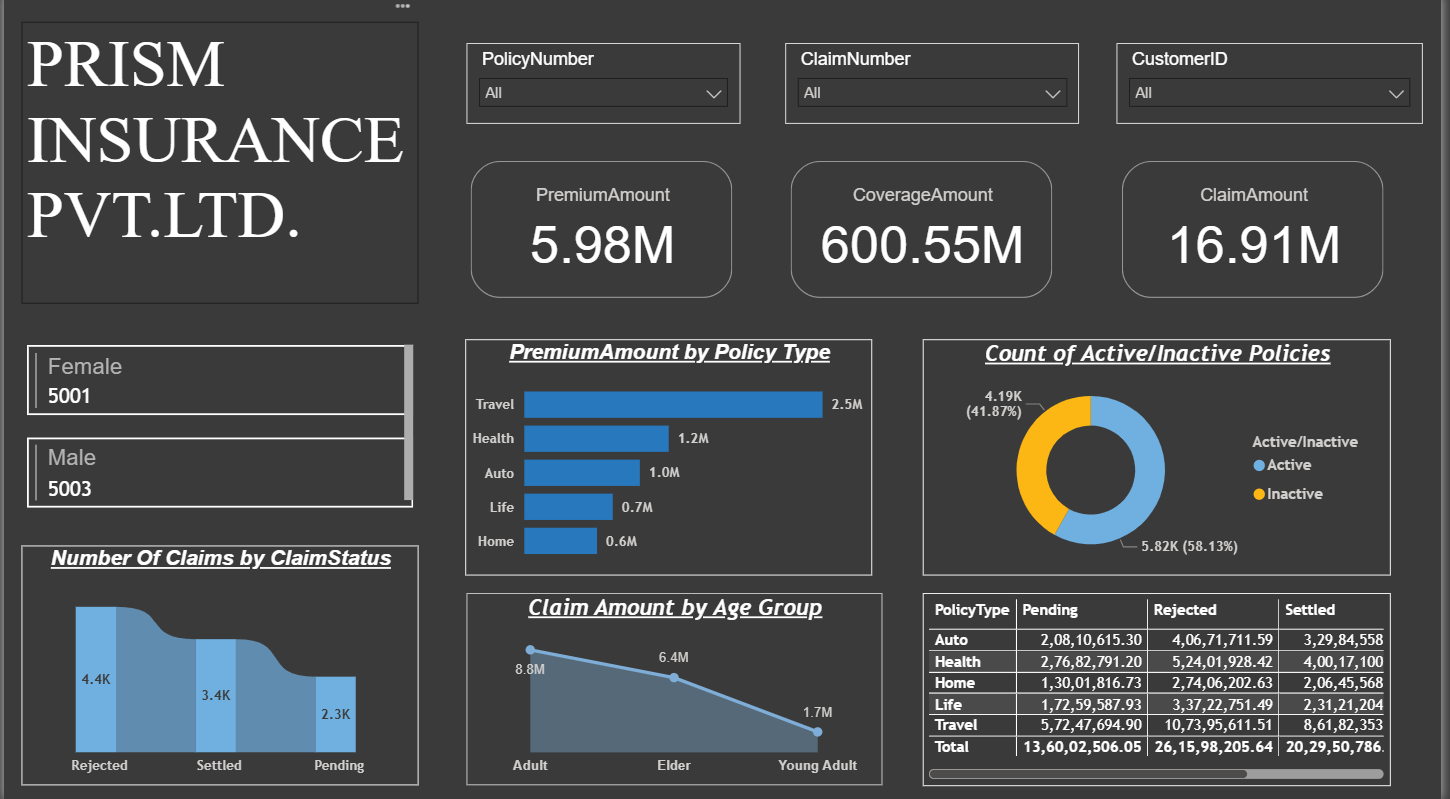

The dashboard page shown, as its layout file describes it:
{"tool":"powerbi","page":{"name":"Page 1","canvas":[1280,720],"ordinal":0},"visuals":[{"type":"slicer","fields":{"Values":["InsuranceData.PolicyNumber"]},"box":[411.4,44.6,243.7,72.4],"z":0},{"type":"slicer","fields":{"Values":["InsuranceData.ClaimNumber"]},"box":[696.1,44.6,261.8,72.4],"z":1000},{"type":"slicer","fields":{"Values":["InsuranceData.CustomerID"]},"box":[990.5,44.6,272.7,72.4],"z":2000},{"type":"textbox","box":[15.9,26,353.5,251],"z":3000},{"type":"cardVisual","fields":{"Data":["Sum(InsuranceData.PremiumAmount)"]},"box":[411.2,144.3,243.8,132.7],"z":4000},{"type":"cardVisual","fields":{"Data":["Sum(InsuranceData.CoverageAmount)"]},"box":[695.4,144.3,243.8,132.7],"z":5000},{"type":"cardVisual","fields":{"Data":["Sum(InsuranceData.ClaimAmount)"]},"box":[991.2,144.3,243.8,132.7],"z":6000},{"type":"multiRowCard","fields":{"Values":["InsuranceData.Gender","CountNonNull(InsuranceData.Gender)"]},"box":[15.9,308.8,353.5,161.6],"z":7000},{"type":"ribbonChart","title":"Number Of Claims  by ClaimStatus","fields":{"Category":["InsuranceData.ClaimStatus"],"Y":["CountNonNull(InsuranceData.ClaimStatus)"]},"box":[15.9,492,353.5,213.5],"z":8000},{"type":"barChart","title":"PremiumAmount by Policy Type","fields":{"Category":["InsuranceData.PolicyType"],"Y":["Sum(InsuranceData.PremiumAmount)"]},"box":[411.2,308.8,362.1,210.6],"z":9000},{"type":"lineChart","title":"Claim Amount by Age Group","fields":{"Category":["InsuranceData.Age Group"],"Y":["Sum(InsuranceData.ClaimAmount)"]},"box":[411.4,534.5,370.4,171.3],"z":10000},{"type":"donutChart","title":"Count of Active/Inactive Policies","fields":{"Category":["InsuranceData.Active/Inactive"],"Y":["CountNonNull(InsuranceData.Active/Inactive)"]},"box":[818,308.8,417,210.6],"z":11000},{"type":"pivotTable","fields":{"Values":["Sum(InsuranceData.CoverageAmount)"],"Rows":["InsuranceData.PolicyType"],"Columns":["InsuranceData.ClaimStatus"]},"box":[818,533.8,417,171.7],"z":12000}]}

Visuals, with their boxes in screenshot pixels (x1, y1, x2, y2), scaled from the page's 1280x720 canvas onto the 1450x799 screenshot:
slicer - InsuranceData.PolicyNumber: [466,49,742,130]
slicer - InsuranceData.ClaimNumber: [789,49,1085,130]
slicer - InsuranceData.CustomerID: [1122,49,1431,130]
textbox: [18,29,418,307]
cardVisual - Sum(InsuranceData.PremiumAmount): [466,160,742,307]
cardVisual - Sum(InsuranceData.CoverageAmount): [788,160,1064,307]
cardVisual - Sum(InsuranceData.ClaimAmount): [1123,160,1399,307]
multiRowCard - InsuranceData.Gender x CountNonNull(InsuranceData.Gender): [18,343,418,522]
"Number Of Claims  by ClaimStatus" ribbonChart: [18,546,418,783]
"PremiumAmount by Policy Type" barChart: [466,343,876,576]
"Claim Amount by Age Group" lineChart: [466,593,886,783]
"Count of Active/Inactive Policies" donutChart: [927,343,1399,576]
pivotTable - Sum(InsuranceData.CoverageAmount) x InsuranceData.PolicyType: [927,592,1399,783]
